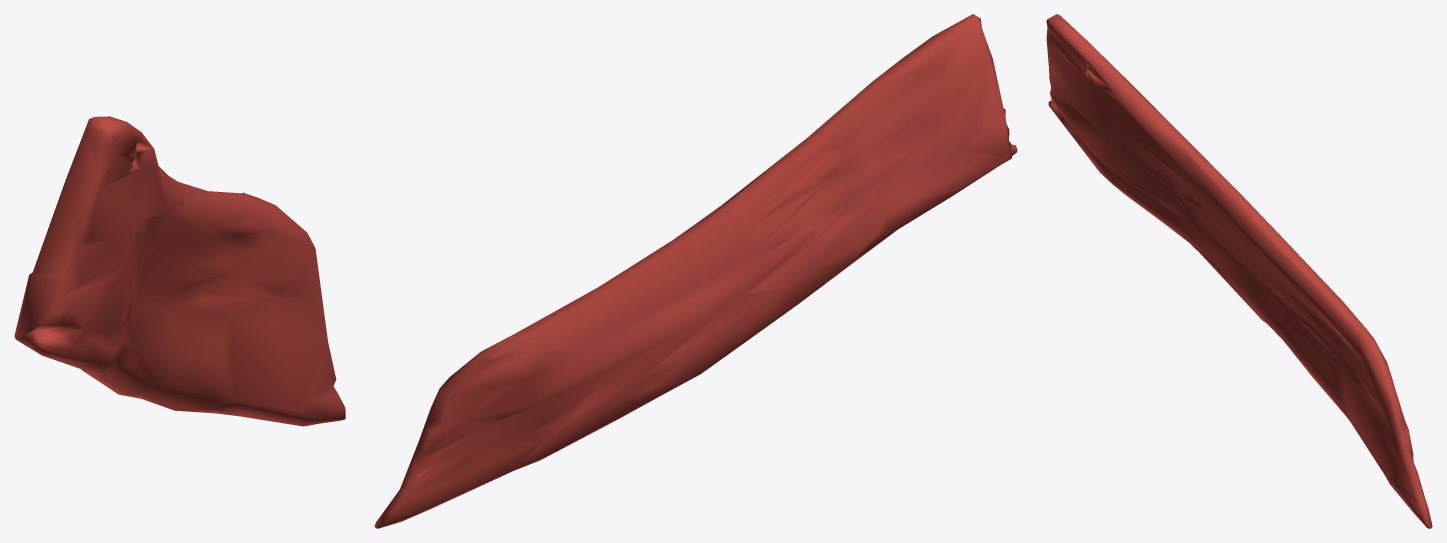
File: musculos-teres-major-muscle-r.glb
3 views of the same model, side by side, from view 1: azimuth 30°, elevation 25°; view 2: azimuth 150°, elevation 25°; view 3: azimuth 270°, elevation 25° (orthographic). The views are drawn at different scales.
Visible parts, largest first — view 1: Teres major muscle.r; view 2: Teres major muscle.r; view 3: Teres major muscle.r.
Part boxes in pixels (x1,y1,x2,y2): Teres major muscle.r: [14, 116, 345, 426]; Teres major muscle.r: [374, 14, 1017, 528]; Teres major muscle.r: [1046, 14, 1432, 528].
Size of the model in its own units: 0.0856 by 0.0861 by 0.0827.
